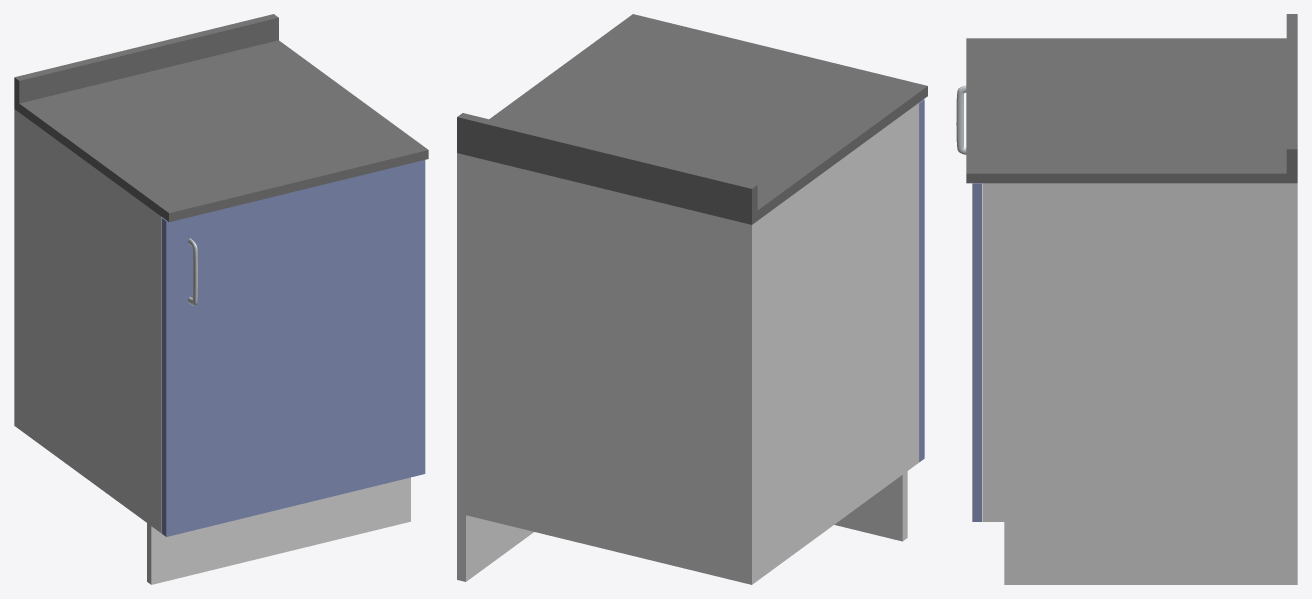
File: Cabinet1.fbx
The picture shows the model from 3 angles, left to right: view 1: azimuth 30°, elevation 25°; view 2: azimuth 150°, elevation 25°; view 3: azimuth 270°, elevation 25°; orthographic projection. The views are drawn at different scales.
Visible parts, largest first — view 1: Baseboard4, Cabinet4_Door; view 2: Baseboard4, Cabinet4_Door; view 3: Baseboard4, Cabinet4_Door, Handle.003.
Boxes of the visible parts, <box> form: Baseboard4: <box>14,14,428,584</box>; Cabinet4_Door: <box>162,160,425,536</box>; Baseboard4: <box>457,14,927,584</box>; Cabinet4_Door: <box>919,99,924,461</box>; Baseboard4: <box>966,14,1297,584</box>; Cabinet4_Door: <box>972,183,981,521</box>; Handle.003: <box>956,85,966,154</box>.
Size of the model in its own units: 60 by 90 by 63.86.
